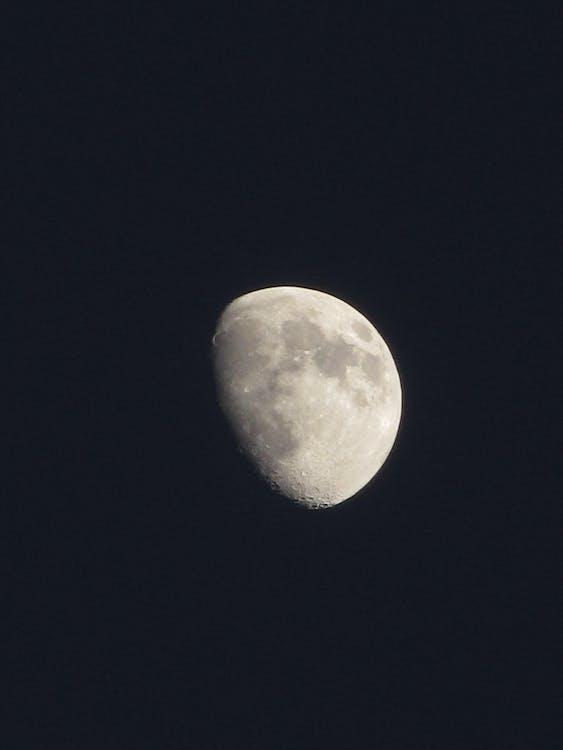moon: (180, 269, 415, 536)
